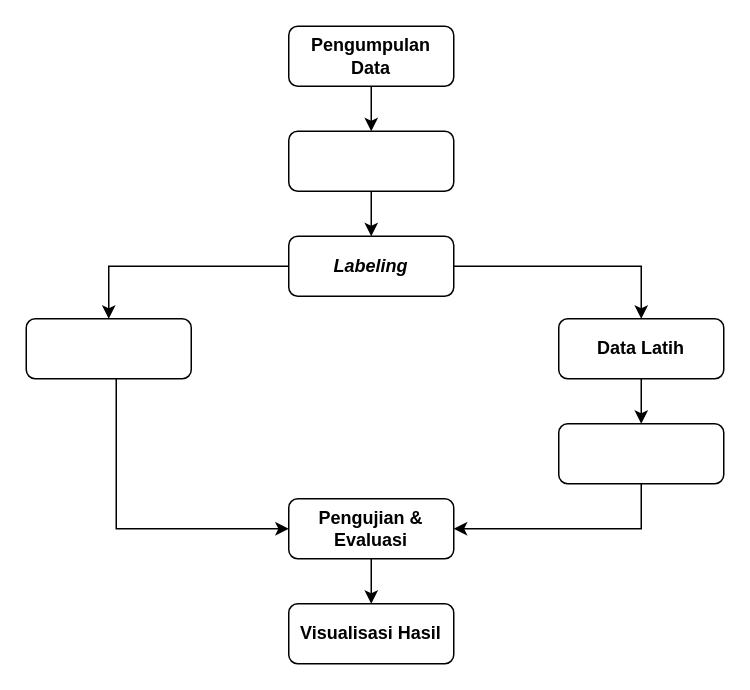
The diagram is 750 pixels wide and 690 high, and some of its shapes have lost their labels. Here are the shapes that lost their labels. From the top down, the centre of each, then its label:
At point 370,160: "Preprocessing".
At point 108,348: "Data Uji".
At point 640,453: "Modeling".
